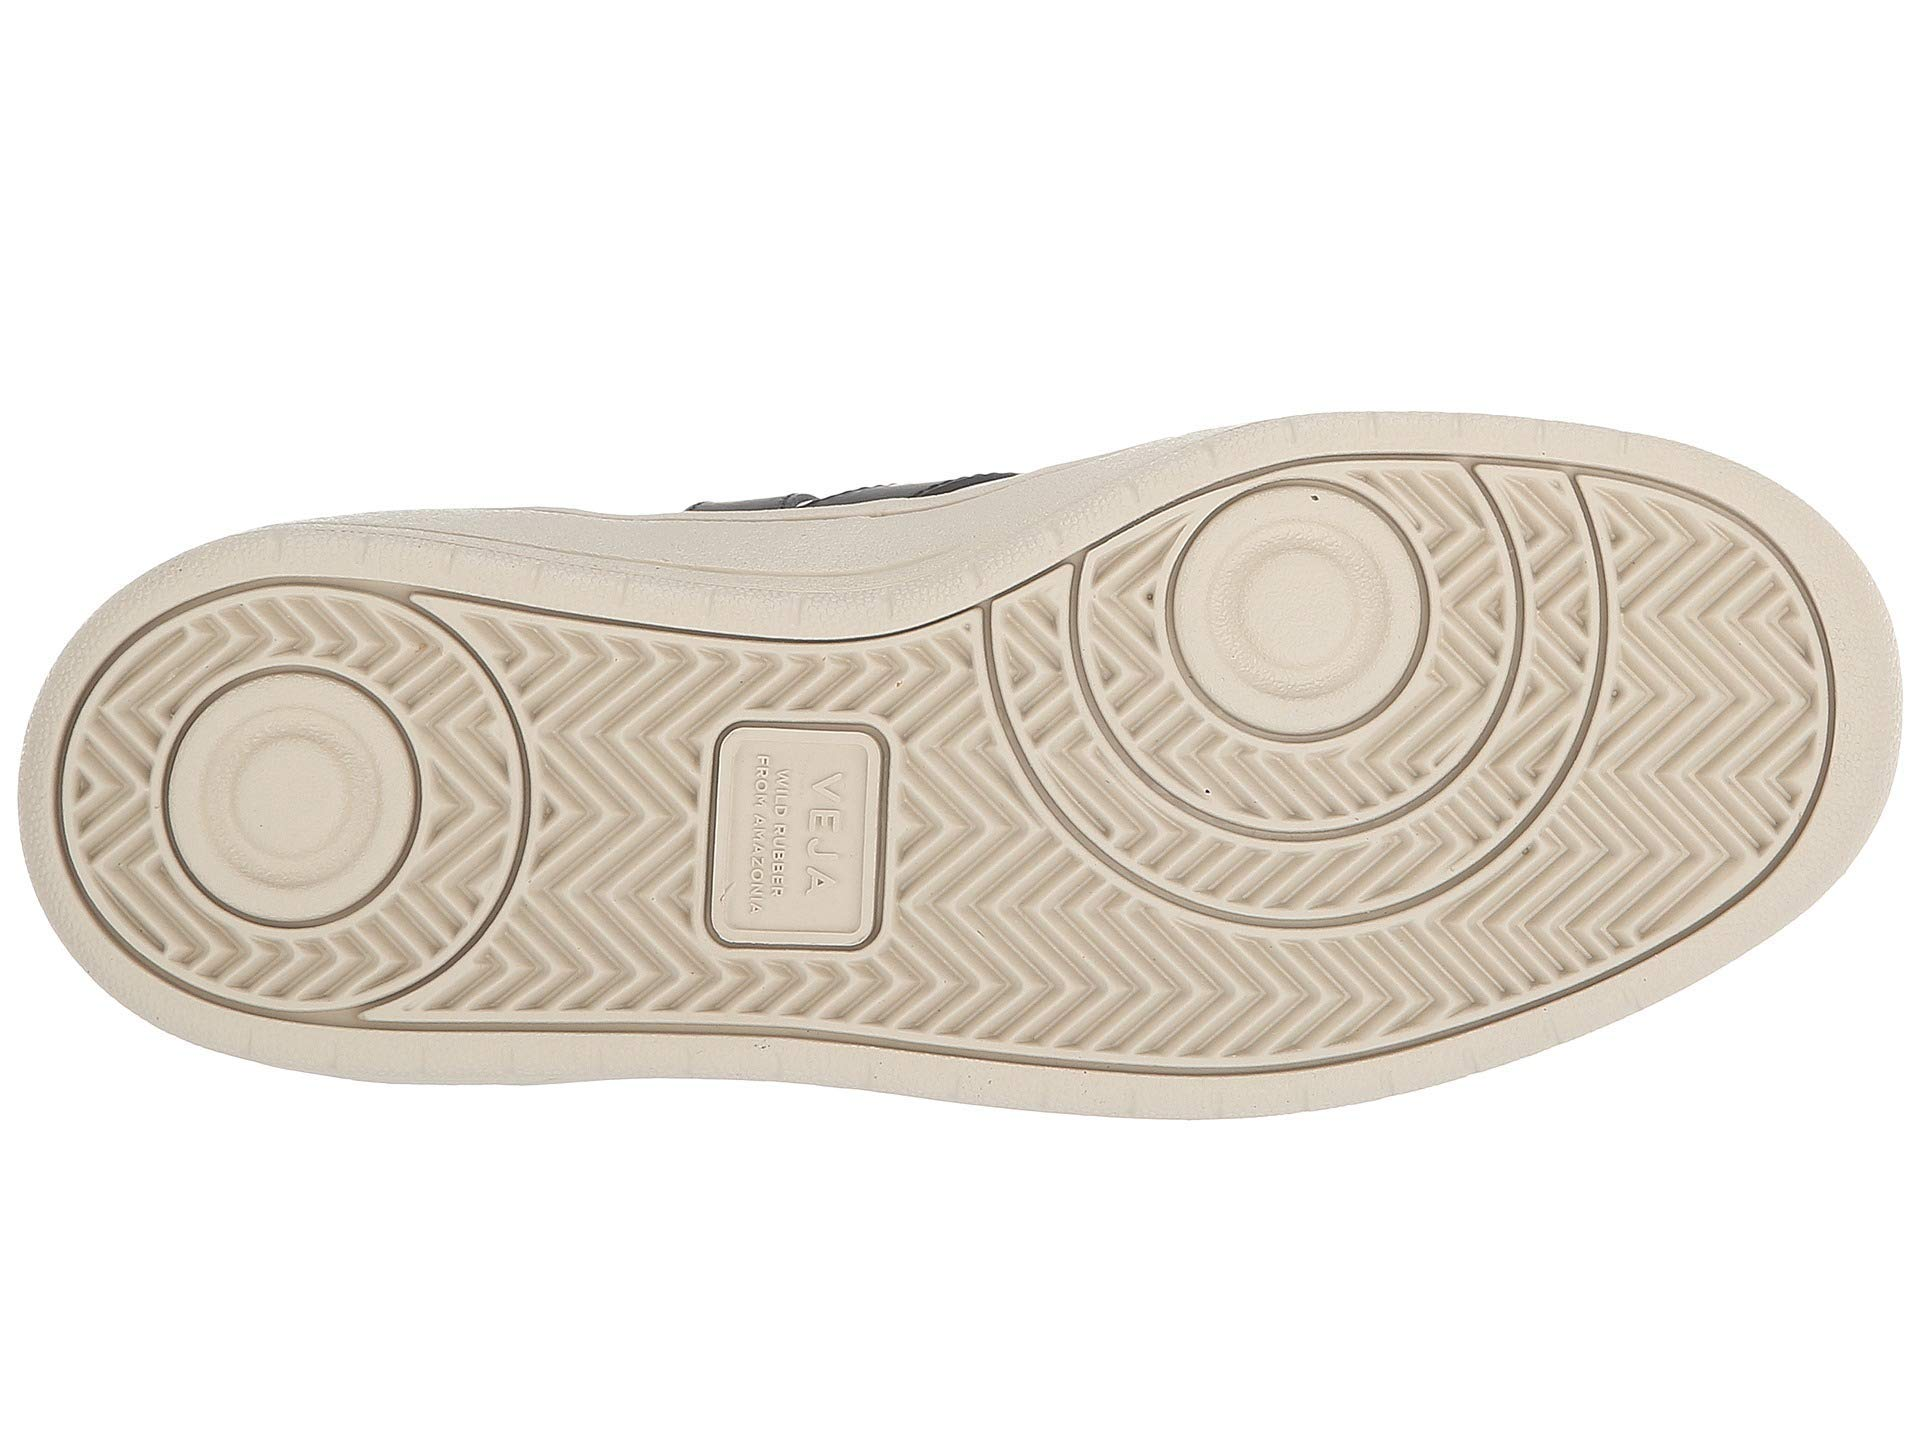chevron: (612, 675, 983, 1032), (1138, 472, 1497, 836), (130, 658, 461, 961), (1610, 619, 1805, 850)
circle: (1138, 472, 1497, 836), (130, 658, 461, 961)
quad: (612, 675, 983, 1032)
text: (612, 675, 983, 1032)
